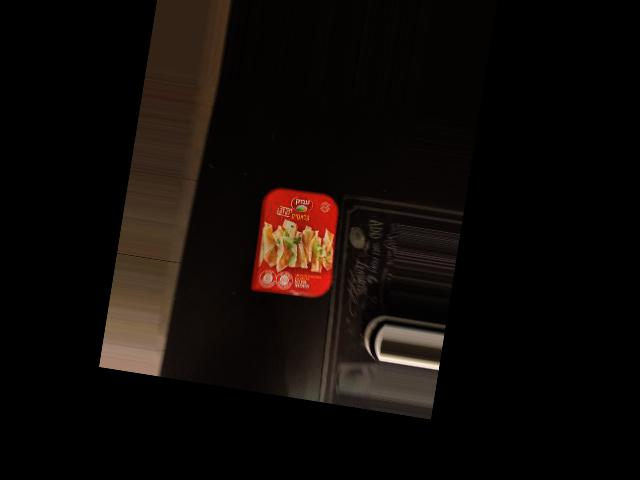cheese: (244, 184, 346, 308)
